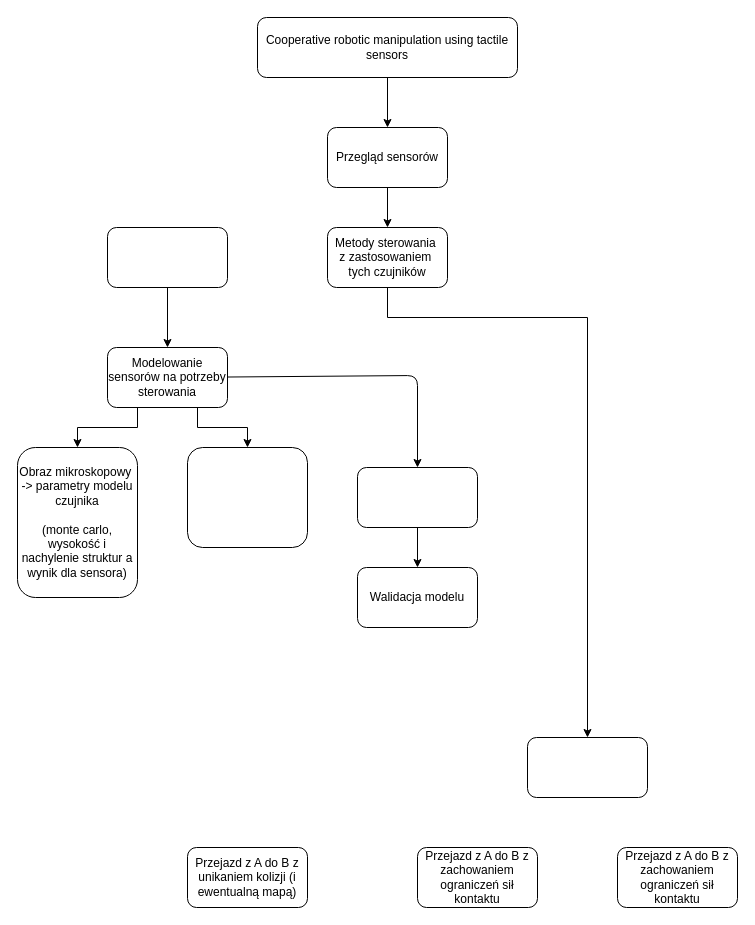
The diagram is 755 pixels wide and 925 high, and some of its shapes have lost their labels. The shapes that lost their labels are listed below. From the top down, each one's centre as x and y in pixels, then its label:
At point (167, 257): "Prace nad nowymi sensorami".
At point (247, 497): "Klasyczna identyfikacja parametryczna modelu czujnika (równania różniczkowe)".
At point (417, 497): "Opracowanie modelu".
At point (587, 767): "Klasyczne sterowanie bez sensorów dotyku".
